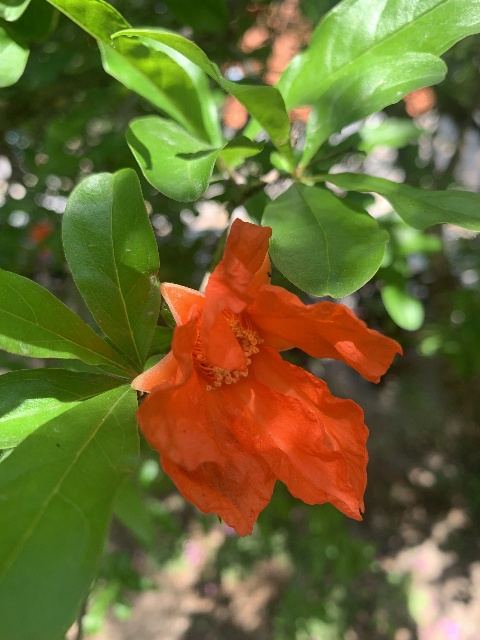flower: (133, 216, 402, 539)
